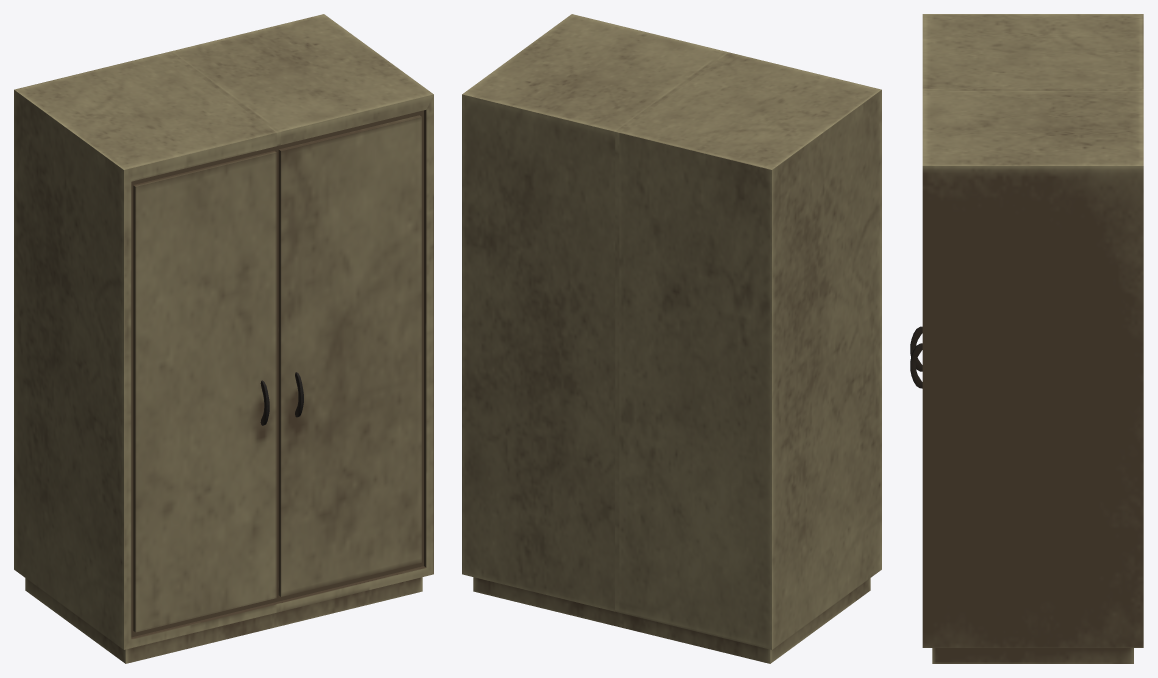
The model's file is Armario_L_Reto.fbx.
3 renders of one model, left to right at view 1: azimuth 30°, elevation 25°; view 2: azimuth 150°, elevation 25°; view 3: azimuth 270°, elevation 25°, orthographic.
Parts seen in each view (by area): view 1: Armario_Reto; view 2: Armario_Reto; view 3: Armario_Reto.
Part boxes in pixels (box(x1,y1,x2,y2)): Armario_Reto: box(14, 14, 433, 663); Armario_Reto: box(462, 14, 881, 663); Armario_Reto: box(910, 14, 1143, 663).
Bounding box in the file's own units: 161 × 248 × 104.
